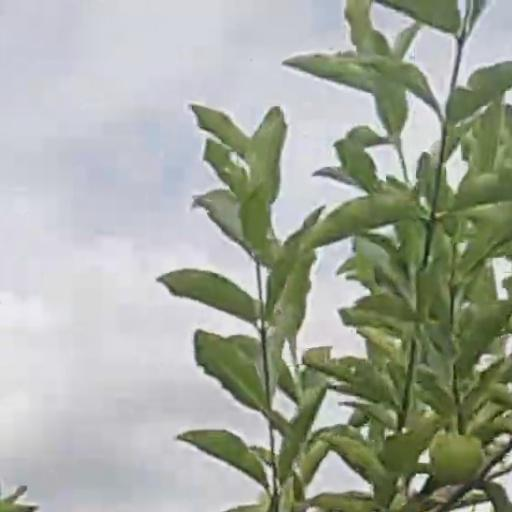acerola_verde: (433, 433, 479, 482)
